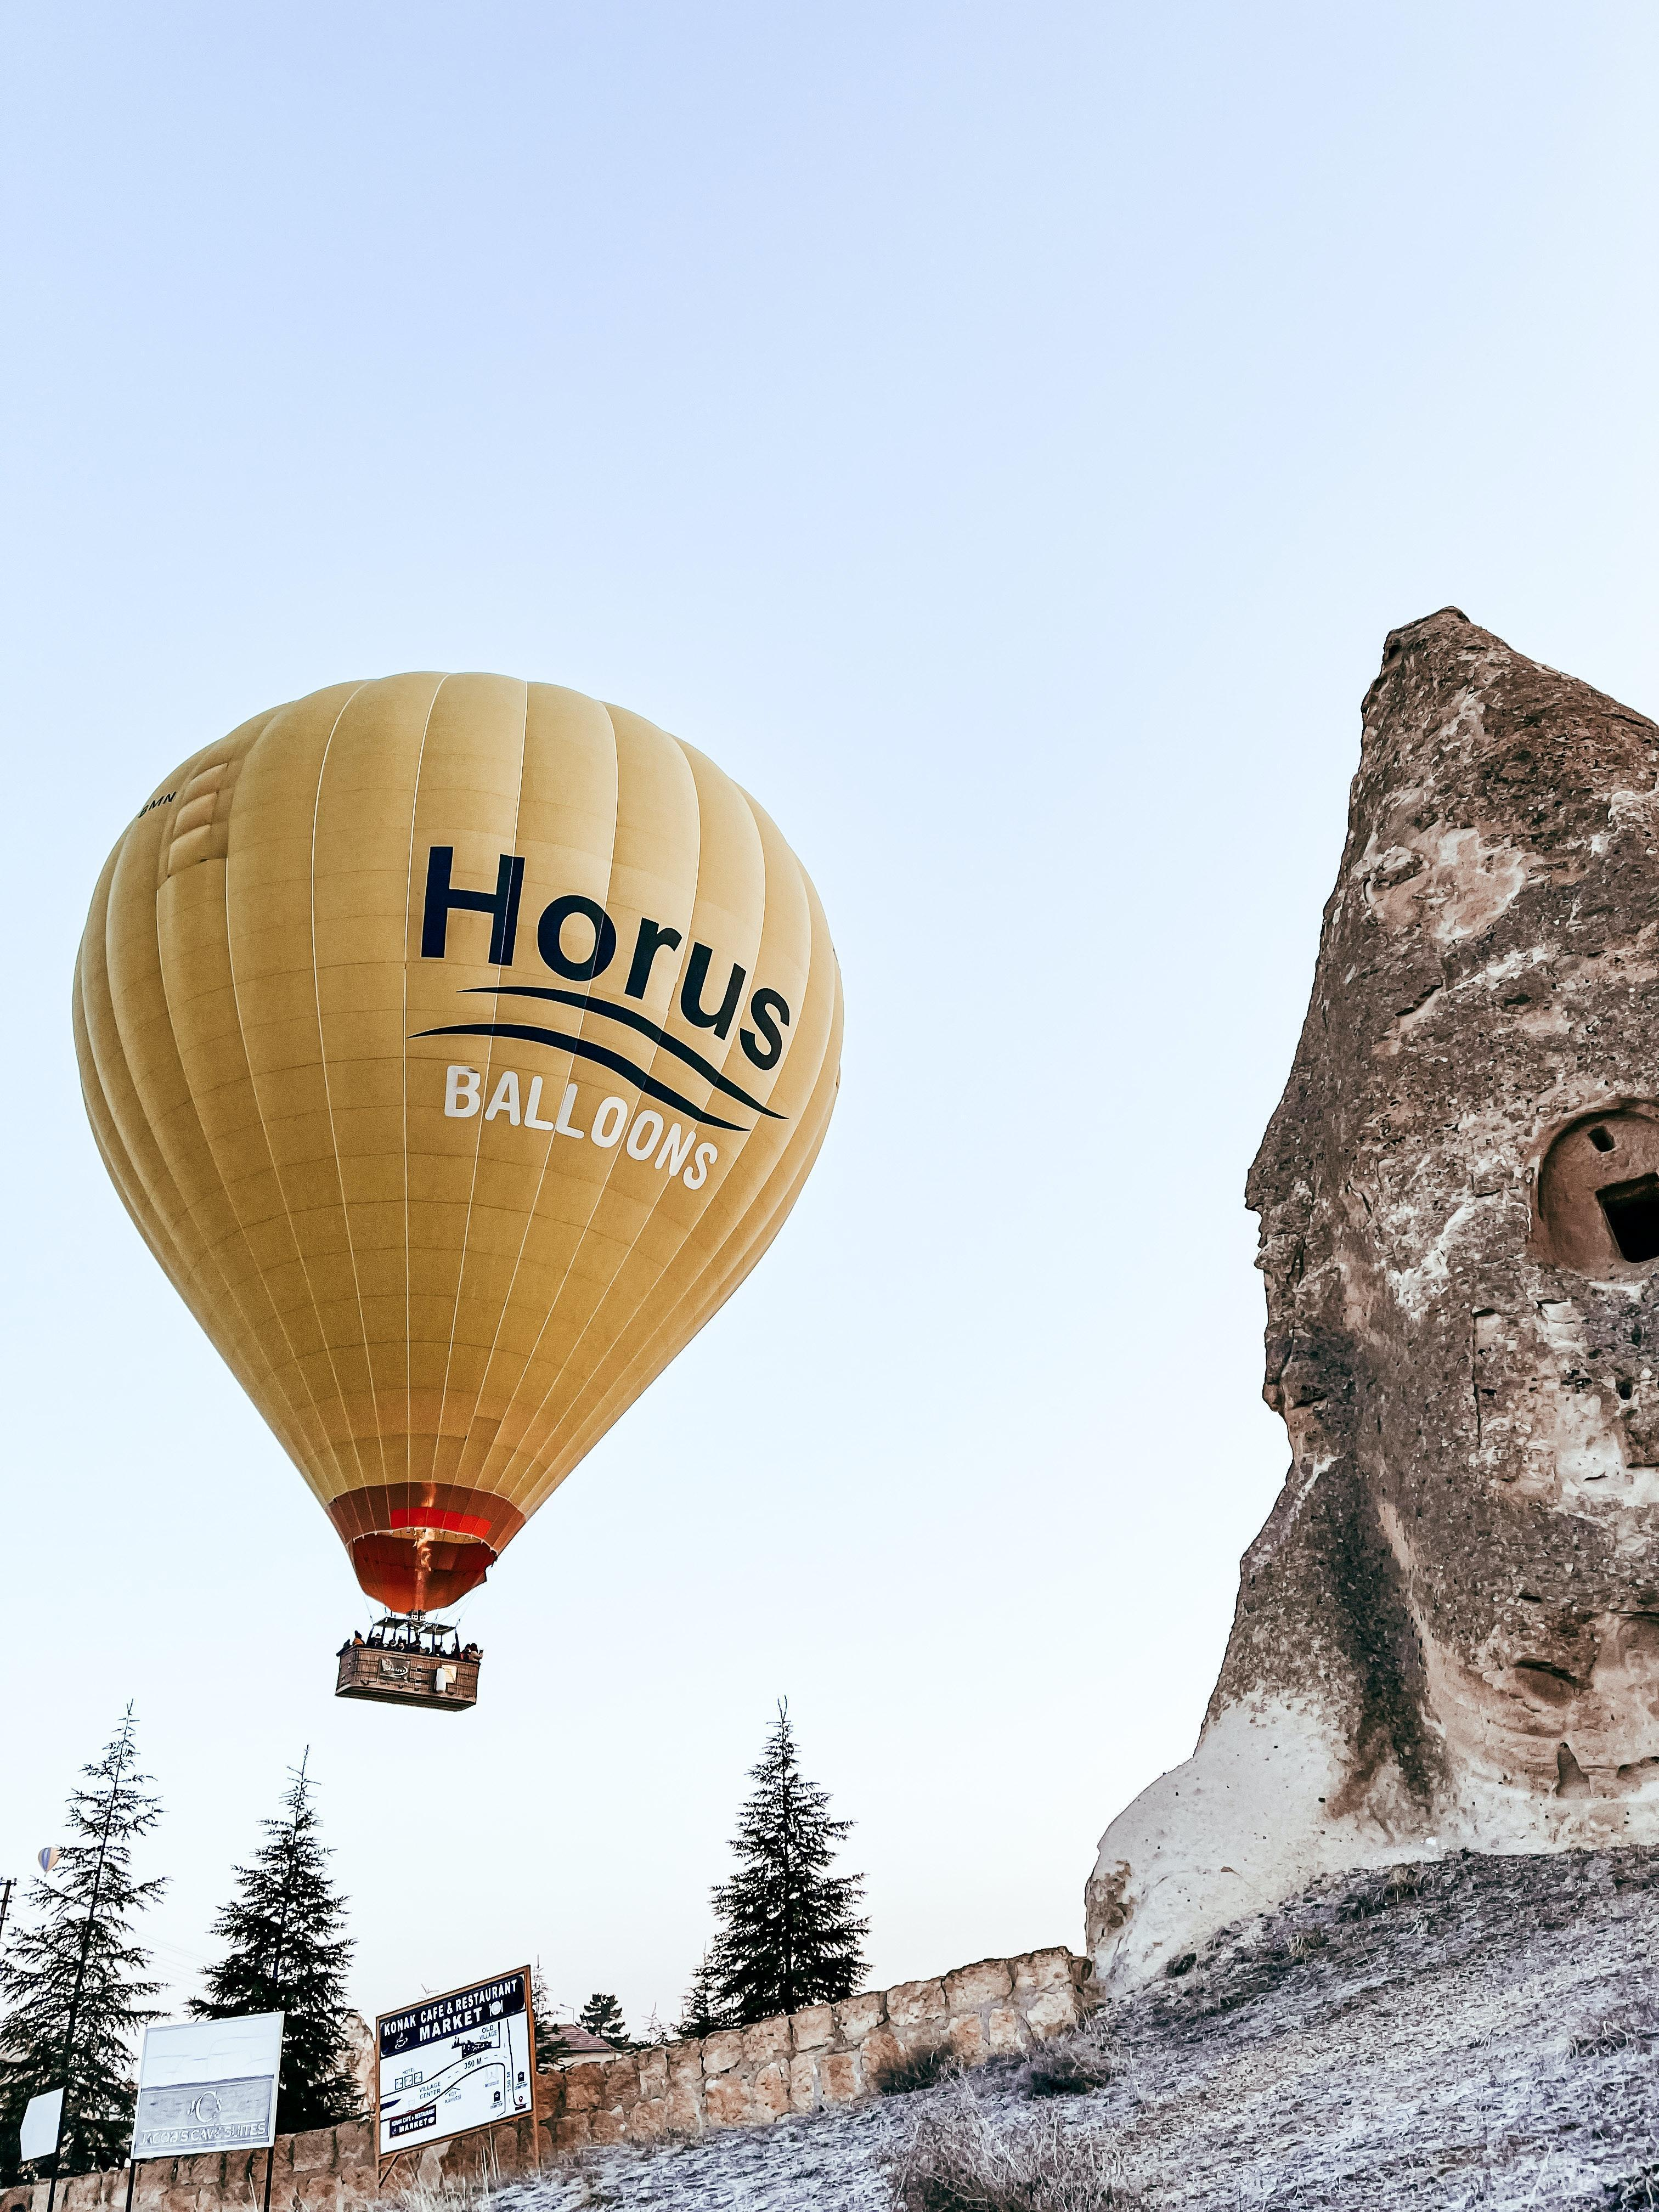hot air ballon: (68, 669, 849, 1716)
